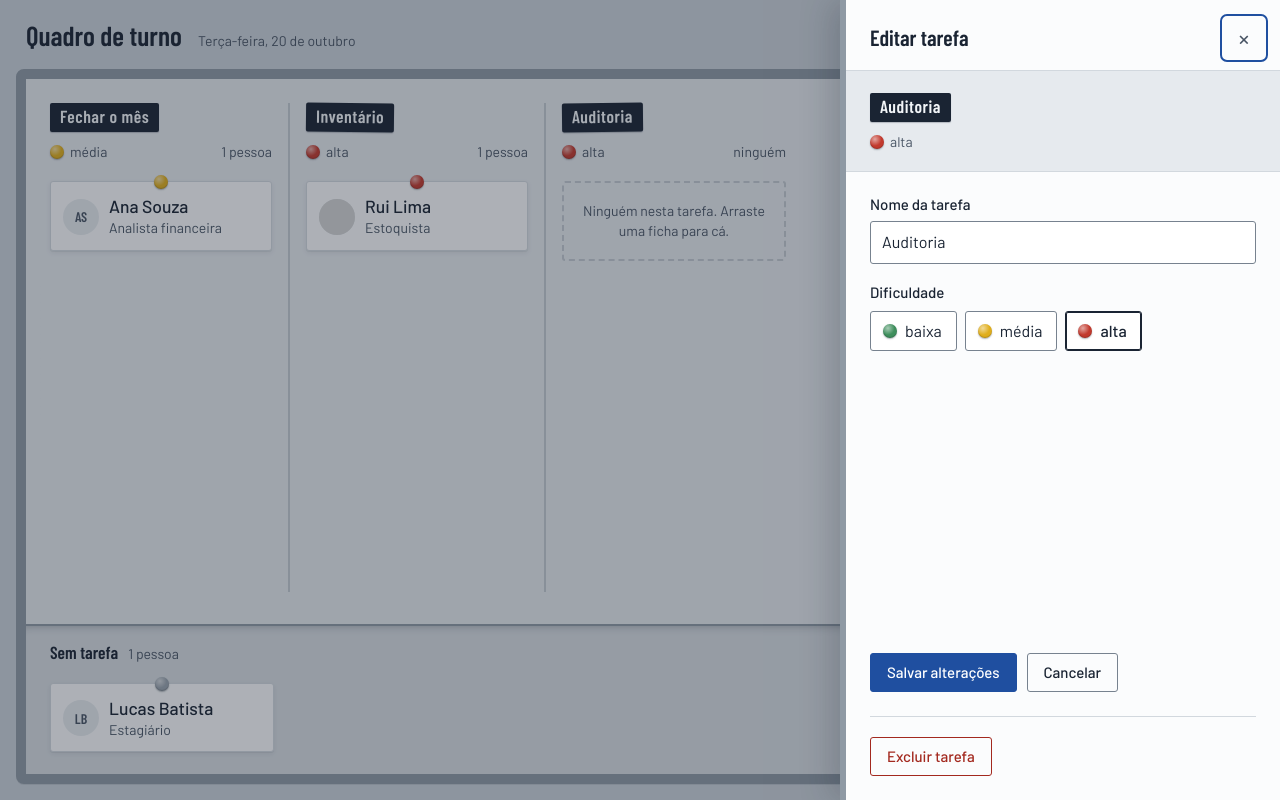
Test: excluir › tarefa que ganhou gente depois de a tela abrir: 409 explicado e botão bloqueado
What coordinates should you click on to do the following:
click the button "Excluir tarefa"
I would click on:
 (931, 756)
Its box is [870,737,992,776].
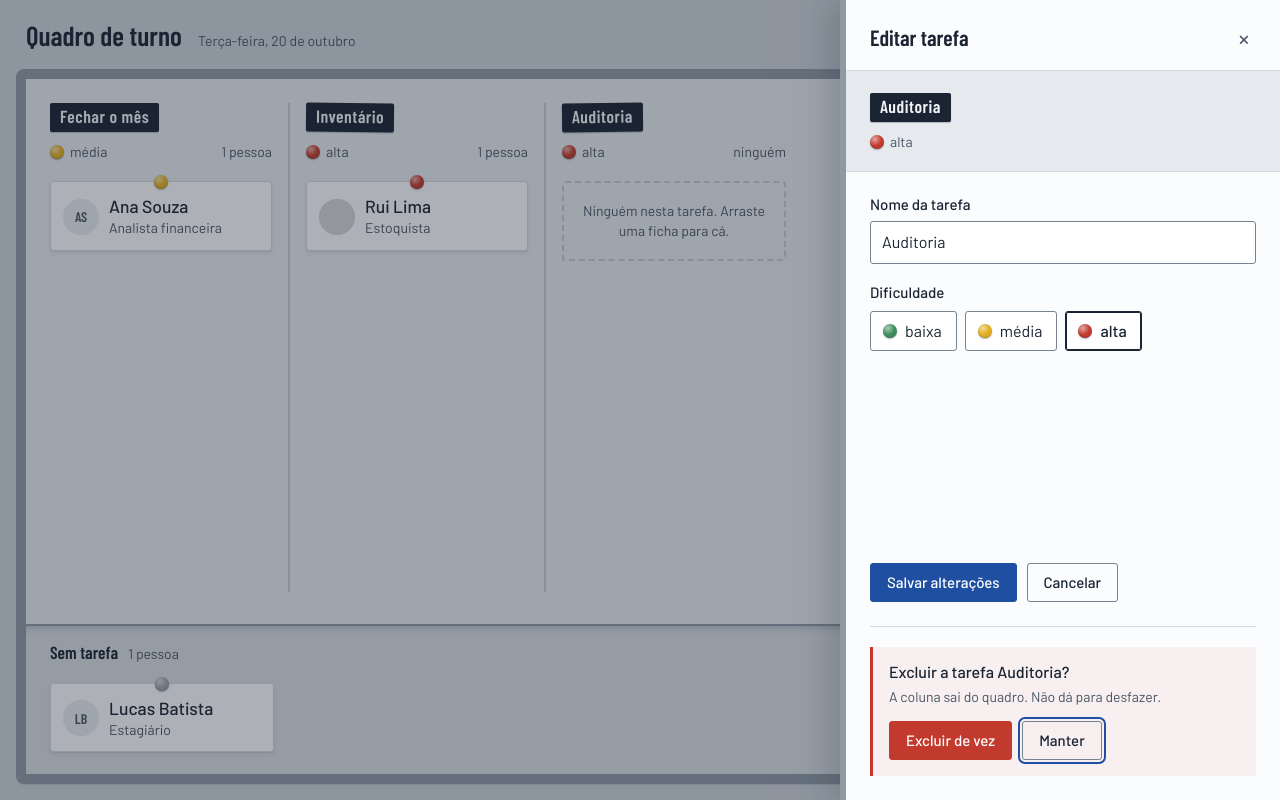
What coordinates should you click on to do the following:
click the button "Excluir de vez"
I would click on:
 (951, 740)
Its box is [889,721,1012,760].
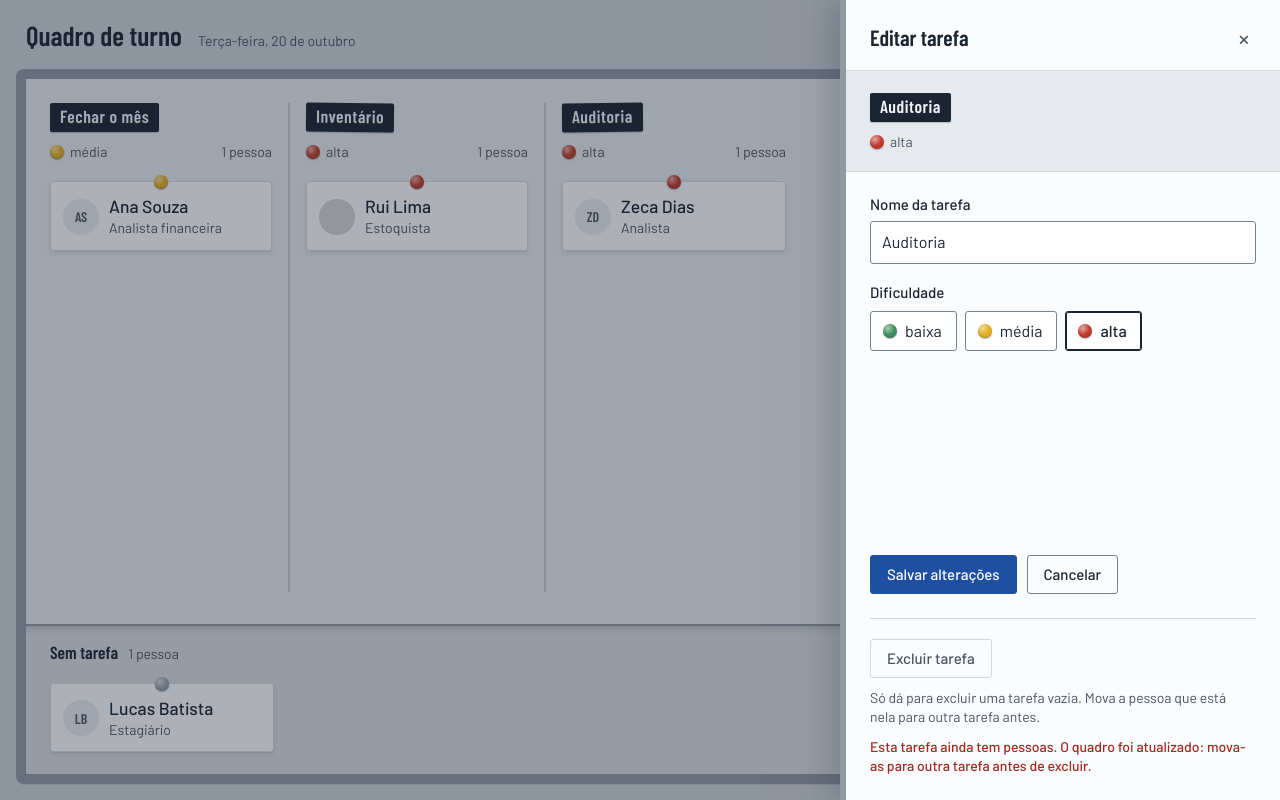
Check: the dialog is shown, box [840,0,1279,799]
Check: the text "Esta tarefa ainda tem pessoas" is shown, box [870,738,1246,774]
Check: the button "Excluir tarefa" is disabled, box [870,639,992,678]
